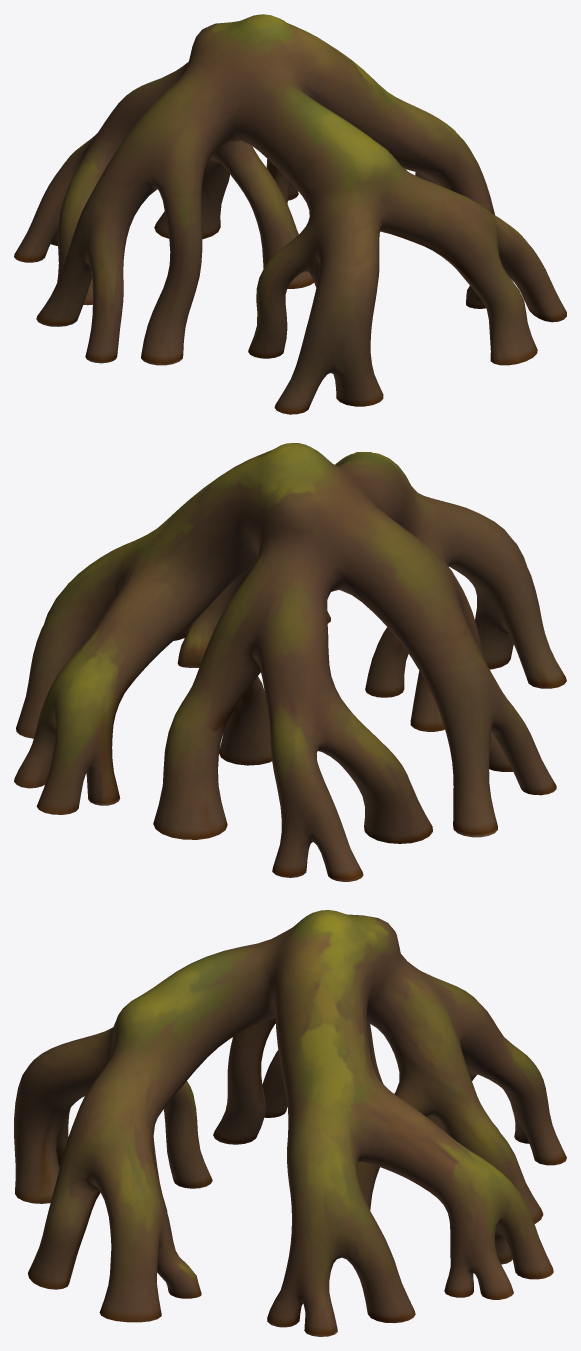
File: Roots_A.fbx
The picture shows the model from 3 angles, top to bottom: view 1: azimuth 30°, elevation 25°; view 2: azimuth 150°, elevation 25°; view 3: azimuth 270°, elevation 25°; orthographic projection. The views are drawn at different scales.
Visible parts, largest first — view 1: Roots_A; view 2: Roots_A; view 3: Roots_A.
Part boxes in pixels (x1,y1,x2,y2): Roots_A: (14, 14, 566, 414); Roots_A: (14, 443, 566, 881); Roots_A: (14, 910, 566, 1336).
Size of the model in its own units: 3.18 by 1.91 by 3.2.
